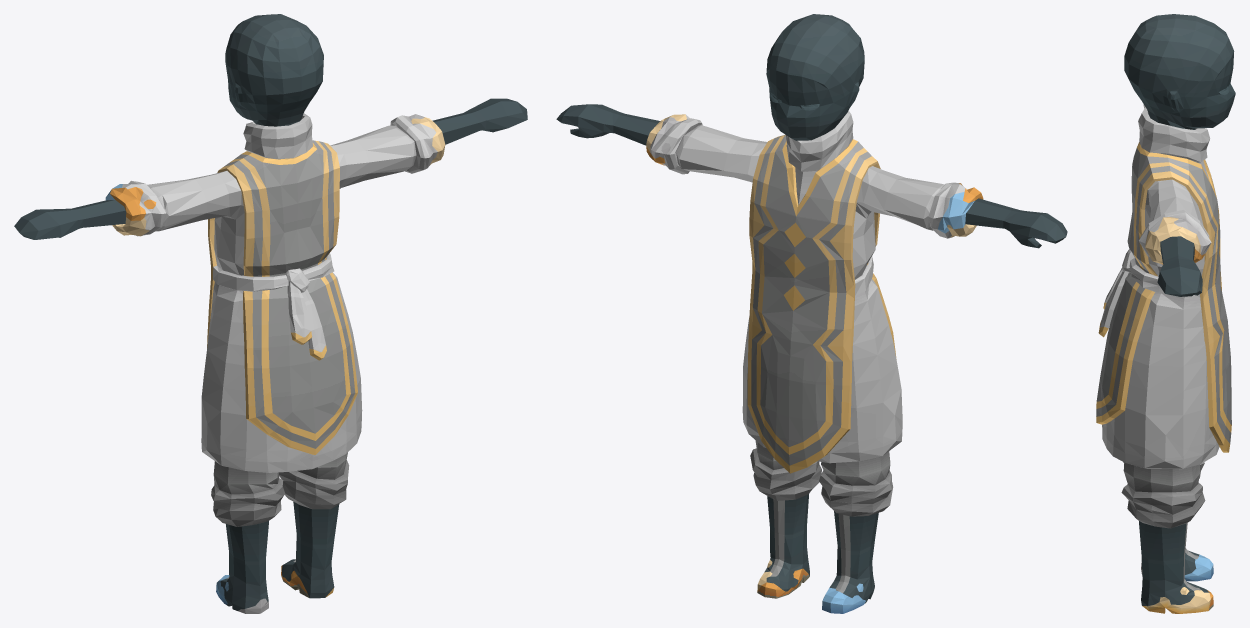
The model's file is CharSkyKid_Body_AP25RolledSleeve.glb.
The picture shows the model from 3 angles, left to right: view 1: azimuth 30°, elevation 25°; view 2: azimuth 150°, elevation 25°; view 3: azimuth 270°, elevation 25°; orthographic projection.
Visible parts, largest first — view 1: CharSkyKid_Body_AP25RolledSleeve; view 2: CharSkyKid_Body_AP25RolledSleeve; view 3: CharSkyKid_Body_AP25RolledSleeve.
Boxes of the visible parts, bbox=[...] form: CharSkyKid_Body_AP25RolledSleeve: bbox=[14, 14, 527, 613]; CharSkyKid_Body_AP25RolledSleeve: bbox=[556, 14, 1067, 613]; CharSkyKid_Body_AP25RolledSleeve: bbox=[1096, 14, 1235, 613].
Size of the model in its own units: 13.83 by 14.92 by 3.31.
1 material, 1 textured.
